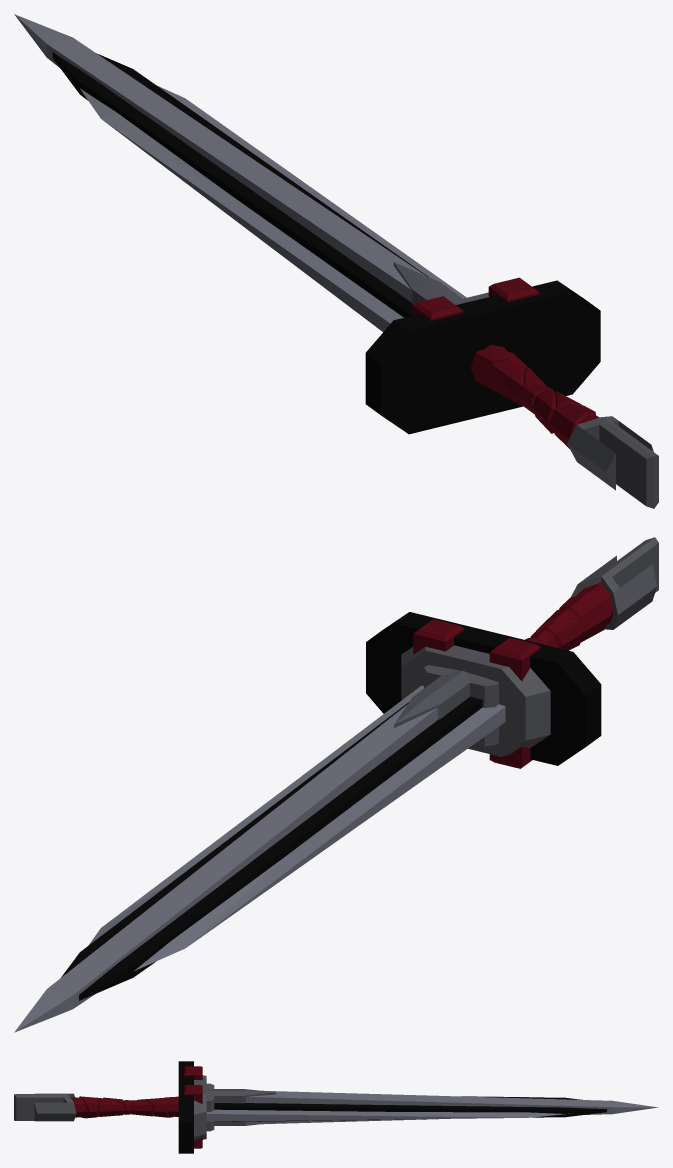
File: sword_22.glb
3 views of the same model, one above another, from view 1: azimuth 30°, elevation 25°; view 2: azimuth 150°, elevation 25°; view 3: azimuth 270°, elevation 25° (orthographic). The views are drawn at different scales.
Visible parts, largest first — view 1: sword_22; view 2: sword_22; view 3: sword_22.
Part boxes in pixels (left/top/right/bottom): sword_22: left=14, top=14, right=658, bottom=508; sword_22: left=14, top=537, right=658, bottom=1032; sword_22: left=14, top=1061, right=658, bottom=1153.
Bounding box in the file's own units: 0.2133 × 0.1058 × 1.08.
1 material, 1 textured.
